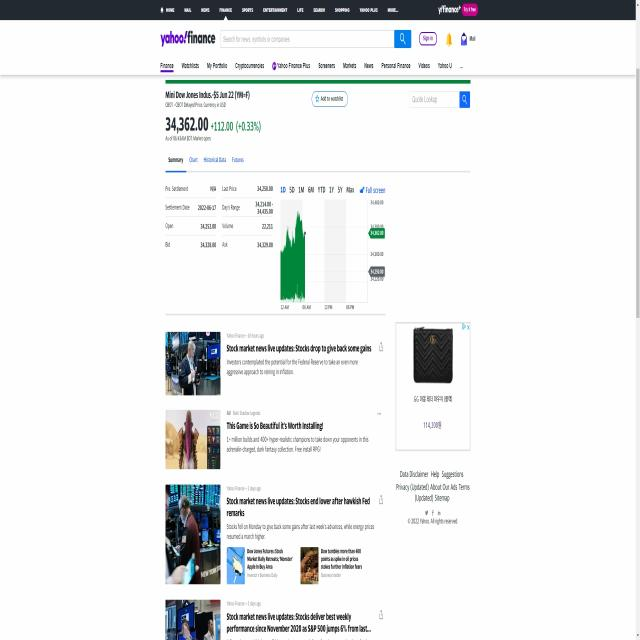menu-bar: (417, 26, 478, 47)
search: (219, 23, 413, 52), (408, 90, 471, 109)
tab-bar: (156, 54, 467, 74), (158, 2, 400, 17), (165, 150, 246, 169)
